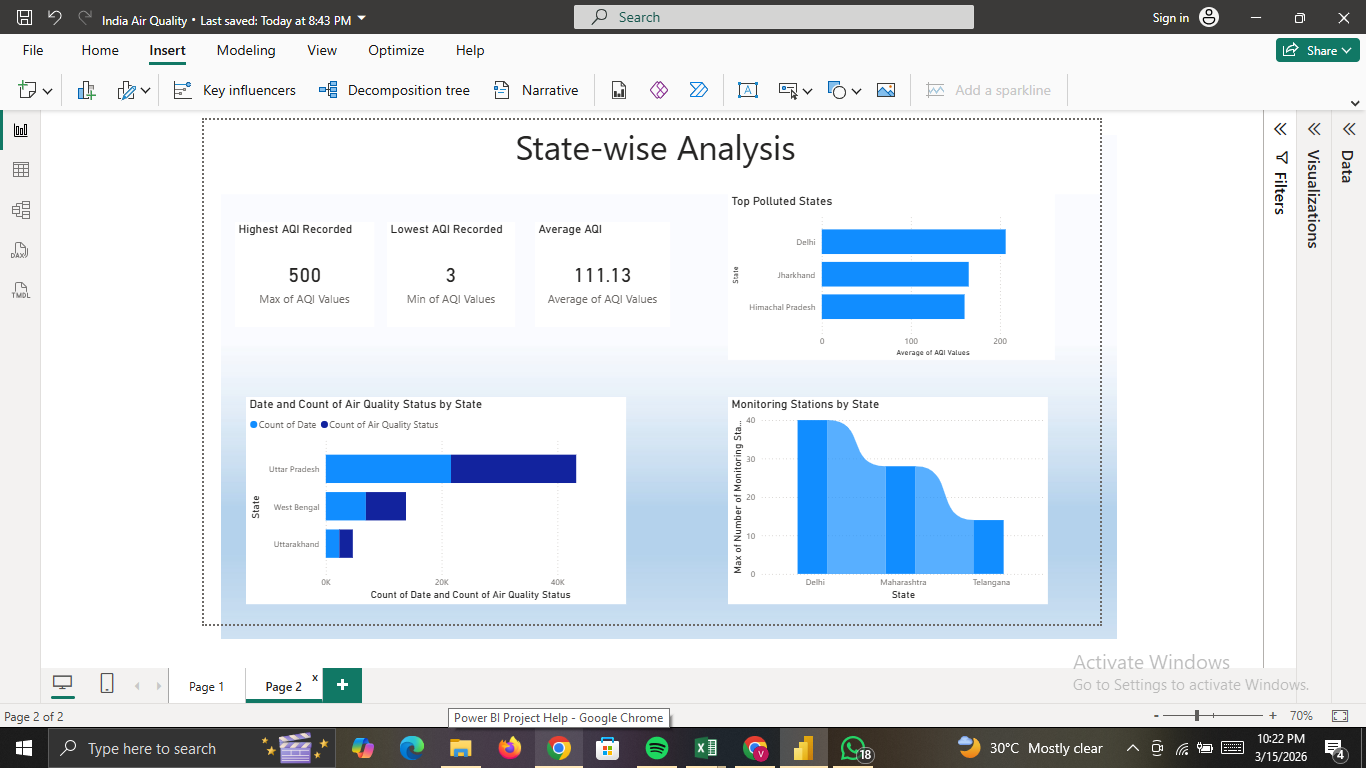

The page's visual inventory and layout, read from the dashboard file:
{"tool":"powerbi","page":{"name":"Page 2","canvas":[1280,720],"ordinal":1},"visuals":[{"type":"textbox","box":[10,0,1270,105.7],"z":0},{"type":"clusteredBarChart","title":"Top Polluted States","fields":{"Category":["Air Quality final.State"],"Y":["Avg(Air Quality final.AQI Values)"]},"box":[748.6,105.7,467.1,237.1],"z":1000},{"type":"card","title":"Highest AQI Recorded","fields":{"Values":["Max(Air Quality final.AQI Values)"]},"box":[44.3,145.7,198.6,150],"z":2000},{"type":"card","title":"Lowest AQI Recorded","fields":{"Values":["Min(Air Quality final.AQI Values)"]},"box":[261.4,145.7,182.9,150],"z":2001},{"type":"card","title":"Average AQI","fields":{"Values":["Avg(Air Quality final.AQI Values)"]},"box":[472.9,145.7,192.9,150],"z":2002},{"type":"ribbonChart","title":"Monitoring Stations by State","fields":{"Y":["Max(Air Quality final.Number of Monitoring Stations)"],"Category":["Air Quality final.State"]},"box":[748.6,395.7,457.1,295.7],"z":2003},{"type":"barChart","title":"Date and Count of Air Quality Status by State","fields":{"Category":["Air Quality final.State"],"Y":["CountNonNull(Air Quality final.Date)","CountNonNull(Air Quality final.Air Quality Status)"]},"box":[60,395.7,542.9,295.7],"z":2004}]}

Visuals, with their boxes on the page's 1280x720 design canvas (x1, y1, x2, y2). These are canvas units, not pixel positions in the 1366x768 screenshot, which may show the page scaled, cropped or inside an application window:
textbox: {"x1": 10, "y1": 0, "x2": 1280, "y2": 106}
"Top Polluted States" clusteredBarChart: {"x1": 749, "y1": 106, "x2": 1216, "y2": 343}
"Highest AQI Recorded" card: {"x1": 44, "y1": 146, "x2": 243, "y2": 296}
"Lowest AQI Recorded" card: {"x1": 261, "y1": 146, "x2": 444, "y2": 296}
"Average AQI" card: {"x1": 473, "y1": 146, "x2": 666, "y2": 296}
"Monitoring Stations by State" ribbonChart: {"x1": 749, "y1": 396, "x2": 1206, "y2": 691}
"Date and Count of Air Quality Status by State" barChart: {"x1": 60, "y1": 396, "x2": 603, "y2": 691}
